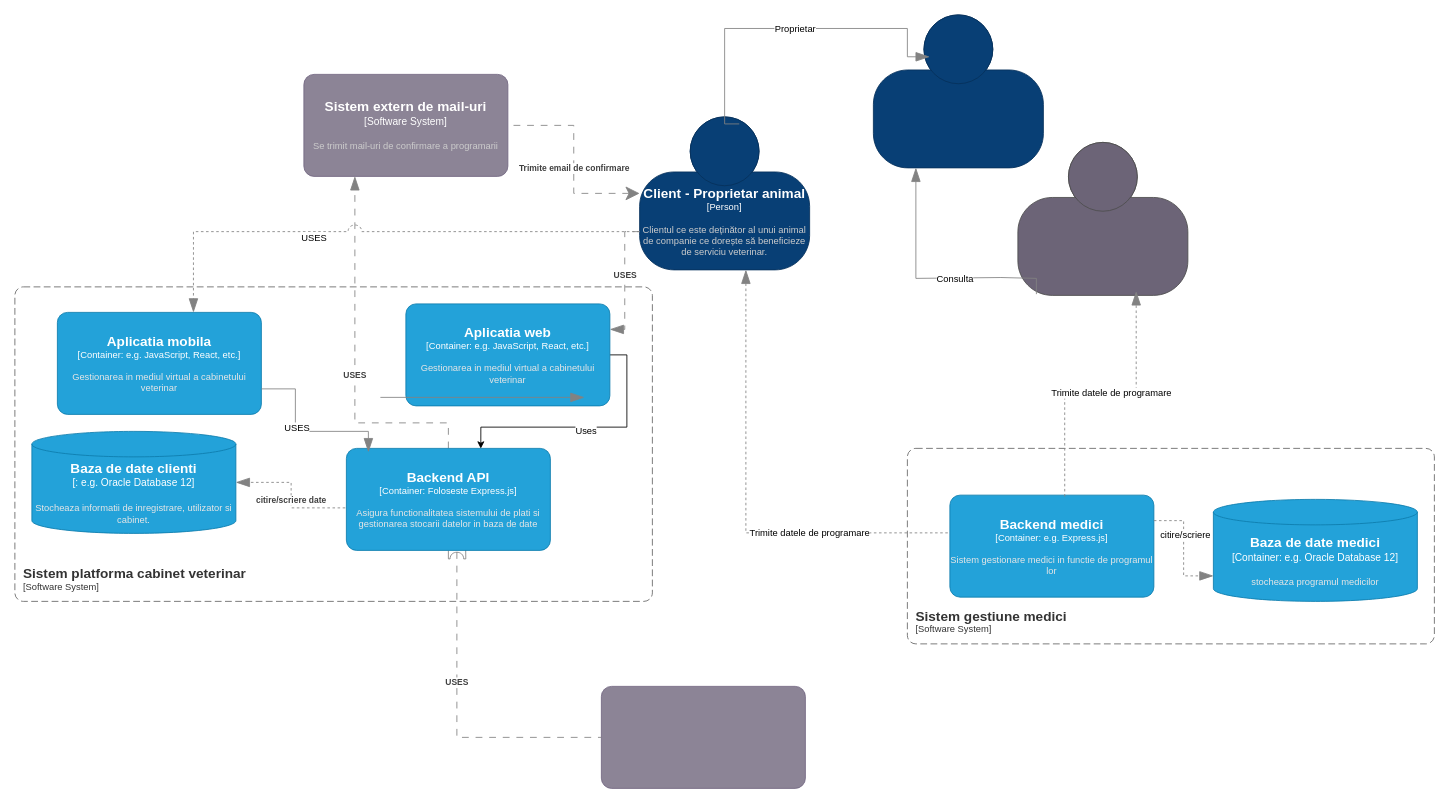
Image size: 1449x803. Some labels were removed from this diagram. The centre of each missing label's shape, as x and y in pixels:
"Animal de companie [Animal] Animalul de companie al clientului" goes at point 958,91.
"Medic [Personal medical] Medic ce operează în cabinetul veterinar" goes at point 1102,218.
"Sistem de plati [Software System] Sistem extern de gestionare a plății" goes at point 703,737.
